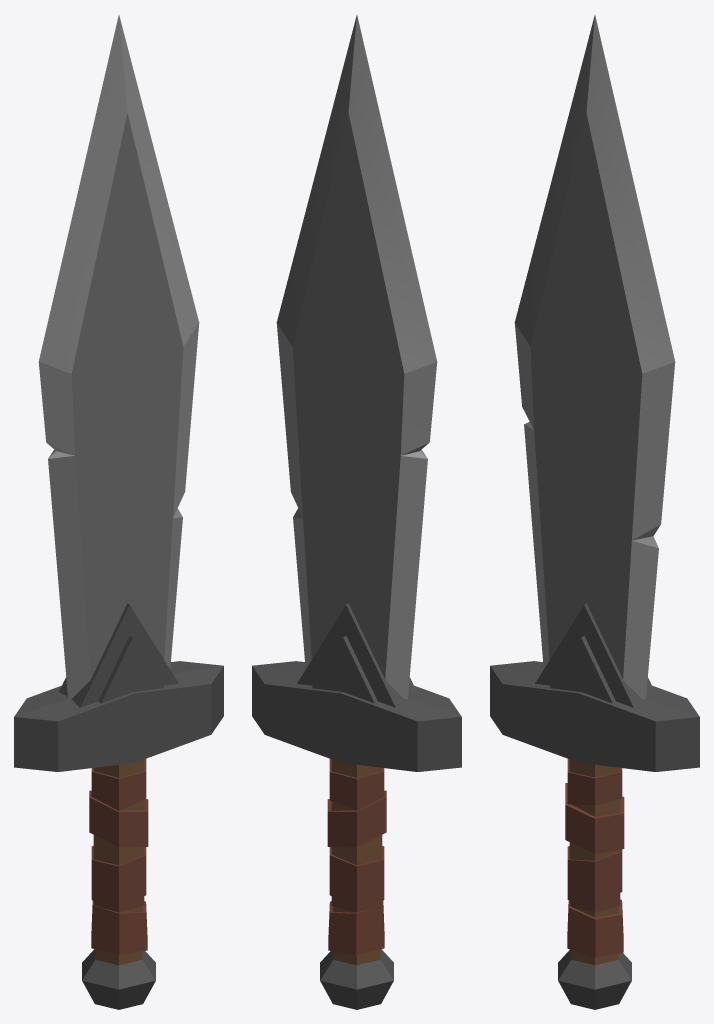
The model's file is Dagger_01.glb.
3 views of the same model, side by side, from view 1: azimuth 30°, elevation 25°; view 2: azimuth 150°, elevation 25°; view 3: azimuth 330°, elevation 25° (orthographic).
Visible parts, largest first — view 1: Dagger_01; view 2: Dagger_01; view 3: Dagger_01.
Part boxes in pixels (<box>): Dagger_01: <box>14,15,223,1009</box>; Dagger_01: <box>252,15,461,1009</box>; Dagger_01: <box>490,15,699,1009</box>.
Bounding box in the file's own units: 0.1285 × 0.576 × 0.0392.
Materials: 1 (1 with a texture image).
